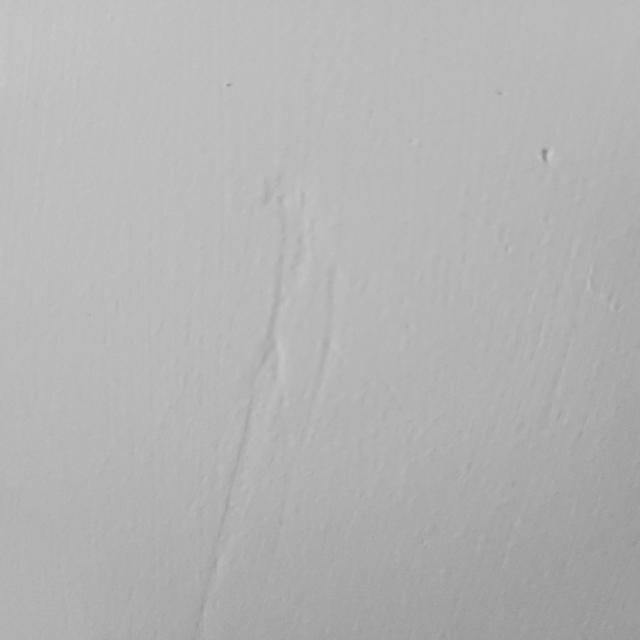rough and patchy surface: (230, 133, 462, 611), (484, 115, 628, 496), (169, 506, 231, 640), (216, 73, 253, 103), (471, 84, 523, 102)
